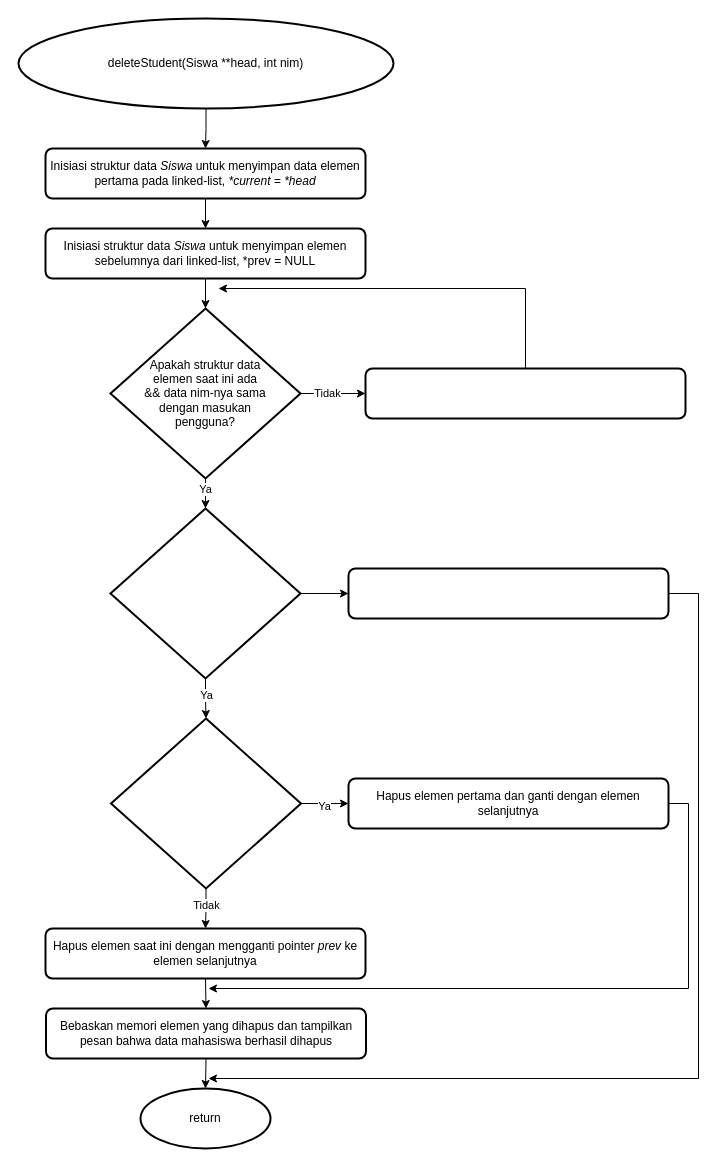
This 724x1166 diagram has some shape labels left out. Here are the shapes that lost their labels. From the top down, the centre of each, then its label:
At point 525,393: "Akses elemen selanjutnya dari linked-list".
At point 205,593: "Apakah struktur data pada elemen saat ini ada?".
At point 508,593: "Tampilkan pesan bahwa data mahasiswa tidak ada di dalam linked-list".
At point 206,803: "Apakah elemen saat ini adalah elemen pertama?".
